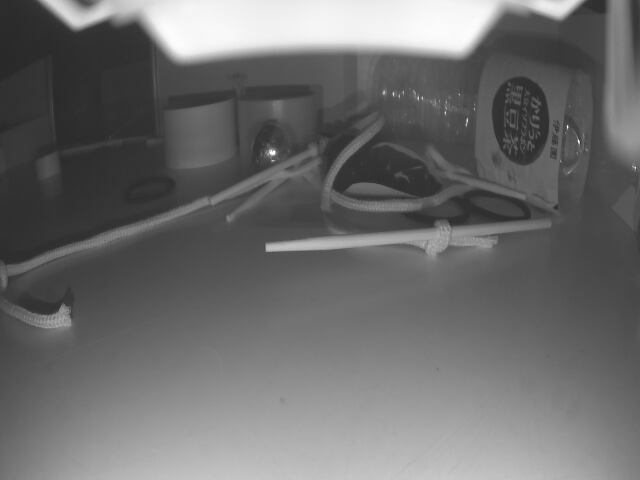Live: (252, 123, 296, 174)
Point: (0, 118, 49, 172)
